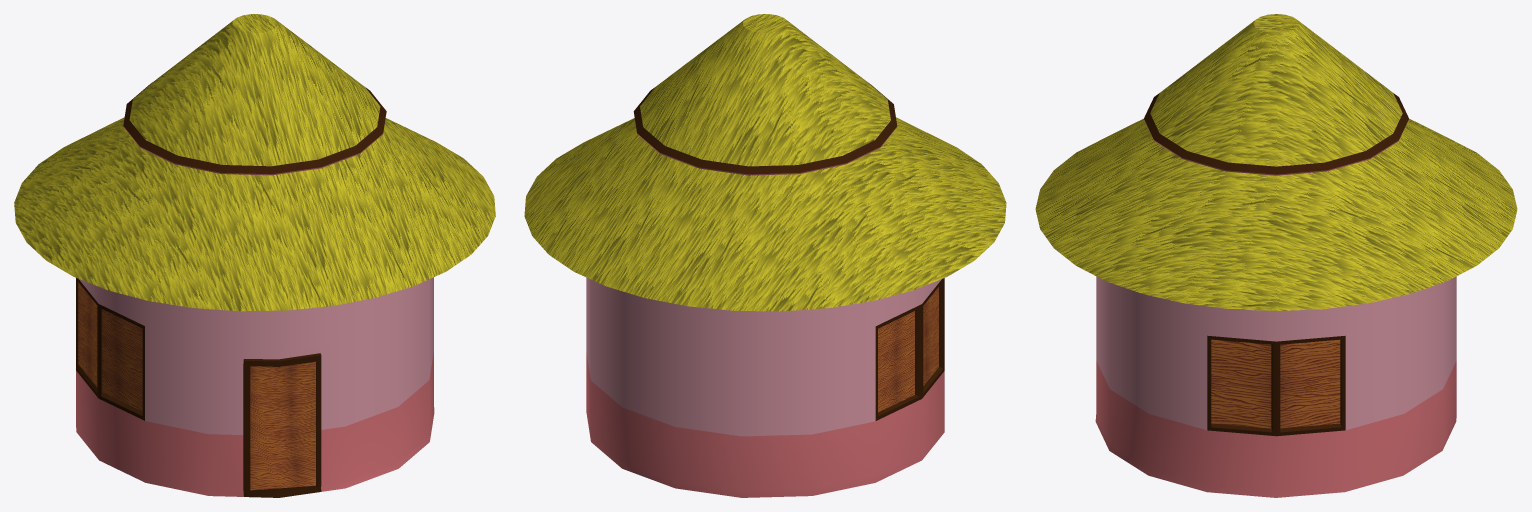
3 renders of one model, left to right at view 1: azimuth 30°, elevation 25°; view 2: azimuth 150°, elevation 25°; view 3: azimuth 270°, elevation 25°, orthographic.
Visible parts, largest first — view 1: Lines; view 2: Lines; view 3: Lines.
Part boxes in pixels (x1,y1,x2,y2): Lines: (14, 14, 495, 497); Lines: (524, 14, 1006, 497); Lines: (1035, 14, 1517, 497).
Bounding box in the file's own units: 208 × 189 × 208.
5 materials, 2 textured.
